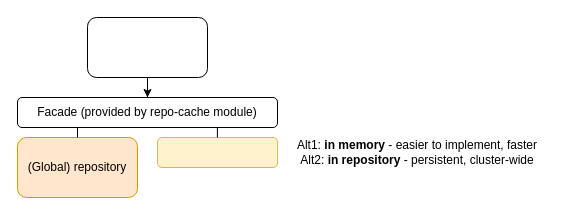
The diagram is 565 pixels wide and 215 high, and some of its shapes have lost their labels. Each missing label, with the box of its shape:
Local data: (156, 136, 278, 168)
Projector (including custom scripts): (86, 16, 208, 78)
